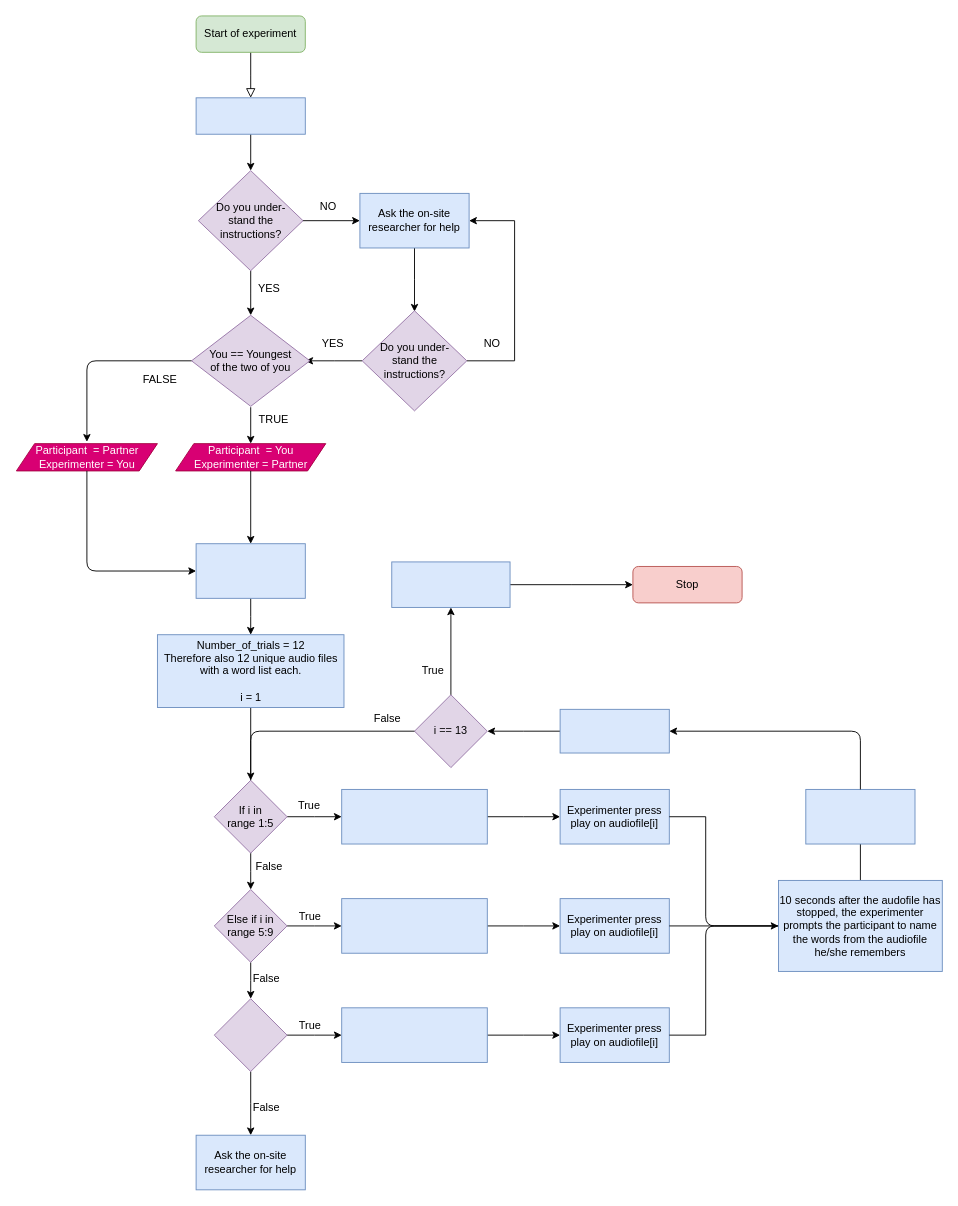
Image size: 958x1206. Some labels were removed from this diagram. The centre of each missing label's shape, as x and y in pixels:
"Else if i in range 9:13" belongs at point (250, 1035).
"Experimenter instructs participant to attend to stimuli in both ears" belongs at point (414, 816).
"Experimenter instructs participant to attend to stimuli in only left ear" belongs at point (414, 925).
"Experimenter instructs participant to attend to stimuli in only right ear" belongs at point (414, 1034).
"Experimenter: Note trial number and the words the participant named." belongs at point (860, 816).
"Hand in your notes to the on-site researcher" belongs at point (450, 584).
"i = i + 1" belongs at point (614, 730).
"Read instructions on the screen together with partner" belongs at point (250, 115).
"The participant puts on headphones." belongs at point (250, 570).
